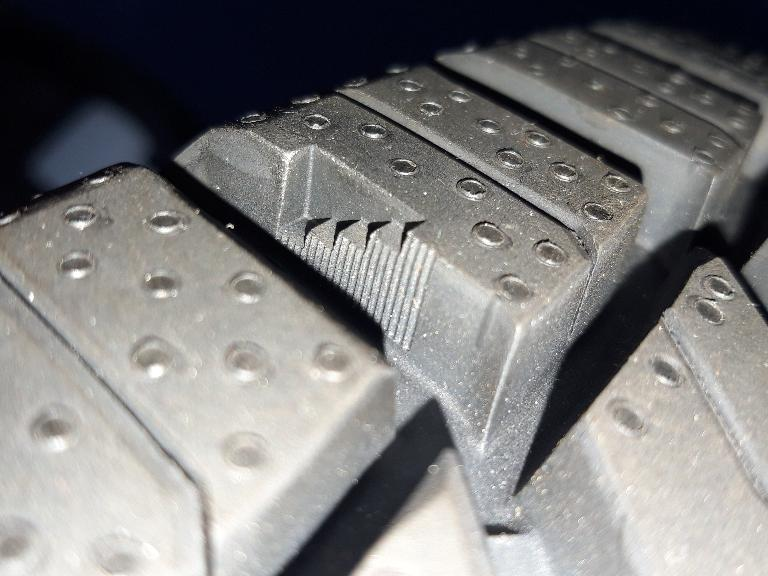temoin:100: (273, 142, 445, 354)
